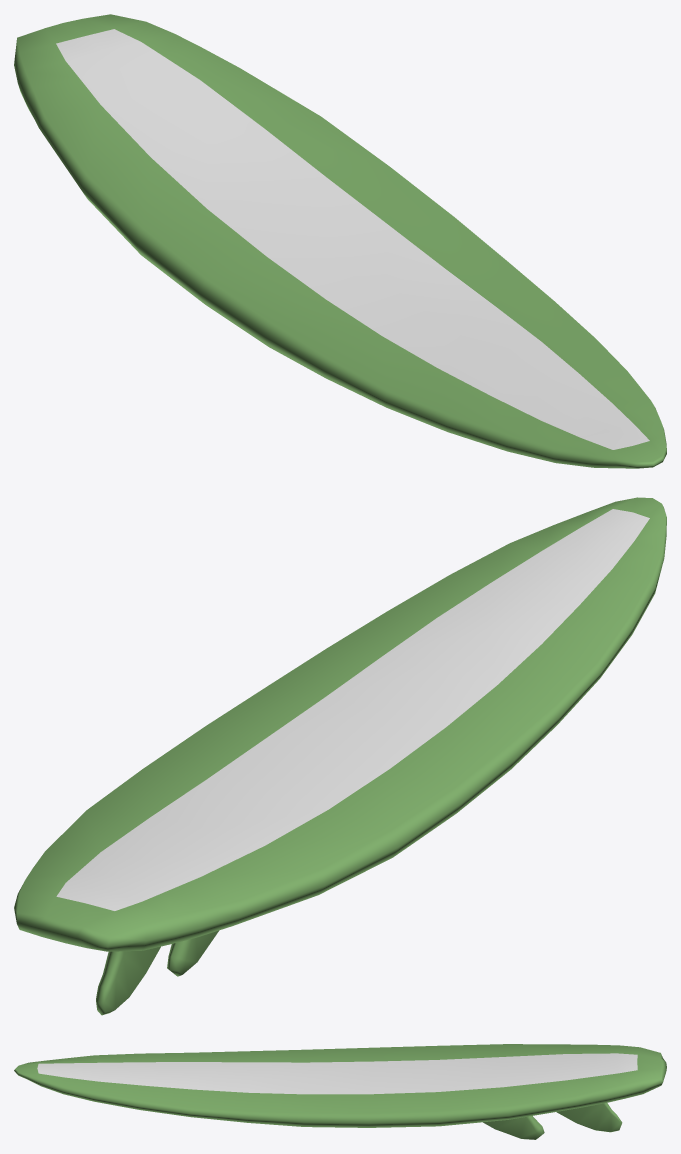
File: Surfboard.fbx
3 renders of one model, top to bottom at view 1: azimuth 30°, elevation 25°; view 2: azimuth 150°, elevation 25°; view 3: azimuth 270°, elevation 25°, orthographic. The views are drawn at different scales.
Parts seen in each view (by area): view 1: Surfboard; view 2: Surfboard; view 3: Surfboard.
Boxes of the visible parts, x1,y1,x2,y2 form: Surfboard: [14, 14, 666, 468]; Surfboard: [14, 497, 666, 1015]; Surfboard: [14, 1044, 666, 1139].
Size of the model in its own units: 3.36 by 1.72 by 13.18.
